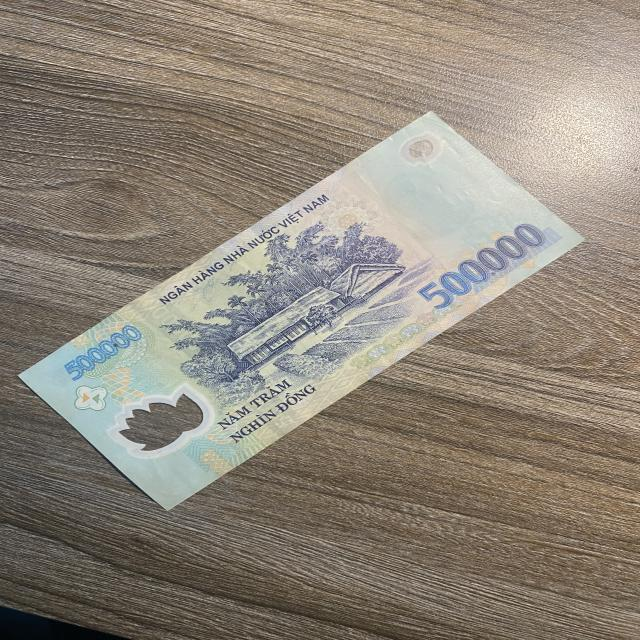500 000 VND: (16, 111, 587, 513)
